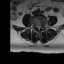CCS_normal: (38, 25, 39, 32)
LFS_severe_stenosis: (41, 24, 43, 28)
LLS_severe_stenosis: (39, 25, 41, 29)
RFS_severe_stenosis: (34, 24, 36, 28)
RLS_stenosis: (36, 24, 38, 29)
